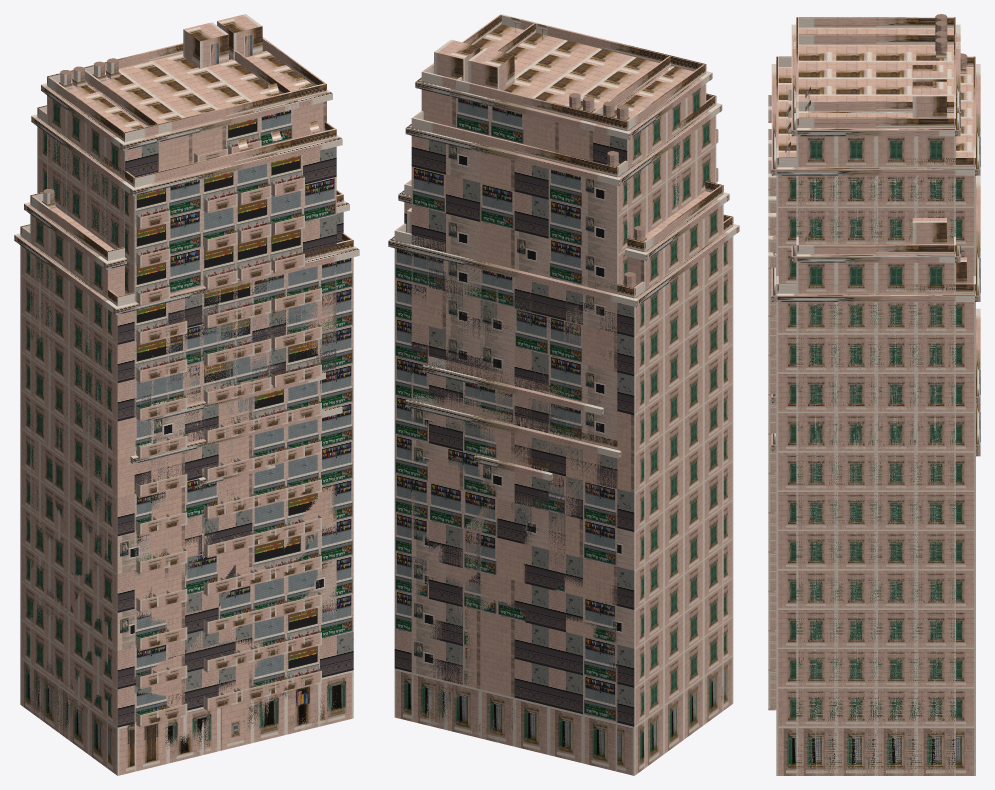
3 views of the same model, side by side, from view 1: azimuth 30°, elevation 25°; view 2: azimuth 150°, elevation 25°; view 3: azimuth 270°, elevation 25° (orthographic). The views are drawn at different scales.
Parts seen in each view (by area): view 1: Khedivial_7x5_f11_v0, Khedivial_6x5_f14_v0, Khedivial_5x5_f8_v0, Khedivial_7x4_f12_v0, Khedivial_6x5_f7_v0, Khedivial_6x4_f15_v1, Khedivial_4x4_f15_v0, Khedivial_2x5_f6_v1; view 2: Khedivial_6x5_f14_v0, Khedivial_7x5_f11_v0, Khedivial_7x4_f12_v0, Khedivial_6x5_f7_v0, Khedivial_5x5_f8_v0, Khedivial_4x4_f15_v0, Khedivial_6x4_f15_v1, Khedivial_2x5_f6_v1; view 3: Khedivial_7x4_f12_v0, Khedivial_7x5_f11_v0, Khedivial_6x4_f15_v1, Khedivial_6x5_f14_v0, Khedivial_4x4_f15_v0, Khedivial_5x5_f8_v0, Khedivial_6x5_f7_v0.
Part boxes in pixels (x1,y1,x2,y2): Khedivial_7x5_f11_v0: [14, 224, 359, 775]; Khedivial_6x5_f14_v0: [31, 105, 342, 727]; Khedivial_5x5_f8_v0: [148, 363, 325, 756]; Khedivial_7x4_f12_v0: [24, 188, 349, 768]; Khedivial_6x5_f7_v0: [130, 405, 342, 771]; Khedivial_6x4_f15_v1: [41, 14, 332, 249]; Khedivial_4x4_f15_v0: [84, 22, 299, 171]; Khedivial_2x5_f6_v1: [198, 465, 275, 755]; Khedivial_6x5_f14_v0: [405, 93, 722, 449]; Khedivial_7x5_f11_v0: [388, 207, 739, 775]; Khedivial_7x4_f12_v0: [398, 179, 729, 768]; Khedivial_6x5_f7_v0: [405, 393, 621, 771]; Khedivial_5x5_f8_v0: [422, 356, 603, 756]; Khedivial_4x4_f15_v0: [449, 22, 674, 160]; Khedivial_6x4_f15_v1: [415, 14, 712, 239]; Khedivial_2x5_f6_v1: [474, 446, 552, 754]; Khedivial_7x4_f12_v0: [791, 218, 960, 775]; Khedivial_7x5_f11_v0: [768, 175, 980, 775]; Khedivial_6x4_f15_v1: [788, 14, 960, 244]; Khedivial_6x5_f14_v0: [768, 53, 980, 673]; Khedivial_4x4_f15_v0: [788, 31, 960, 132]; Khedivial_5x5_f8_v0: [768, 308, 980, 710]; Khedivial_6x5_f7_v0: [768, 403, 980, 697].
Bounding box in the file's own units: 25.3 × 64.5 × 18.6.
1 material, 1 textured.
